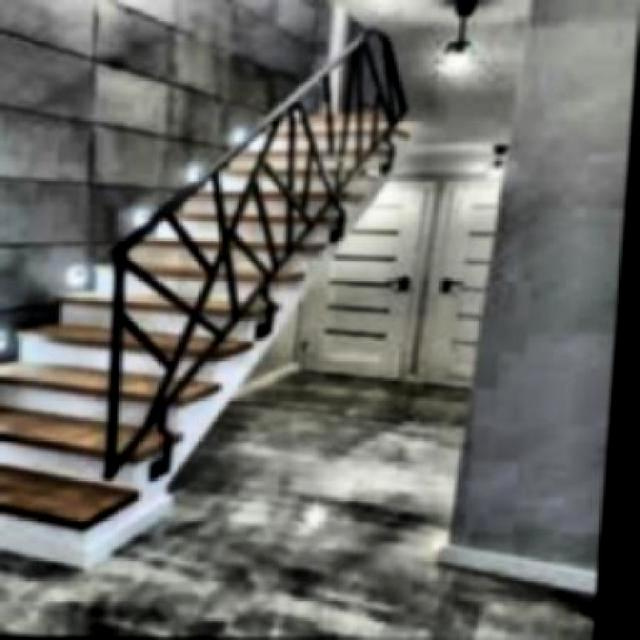stair: (2, 111, 430, 564)
